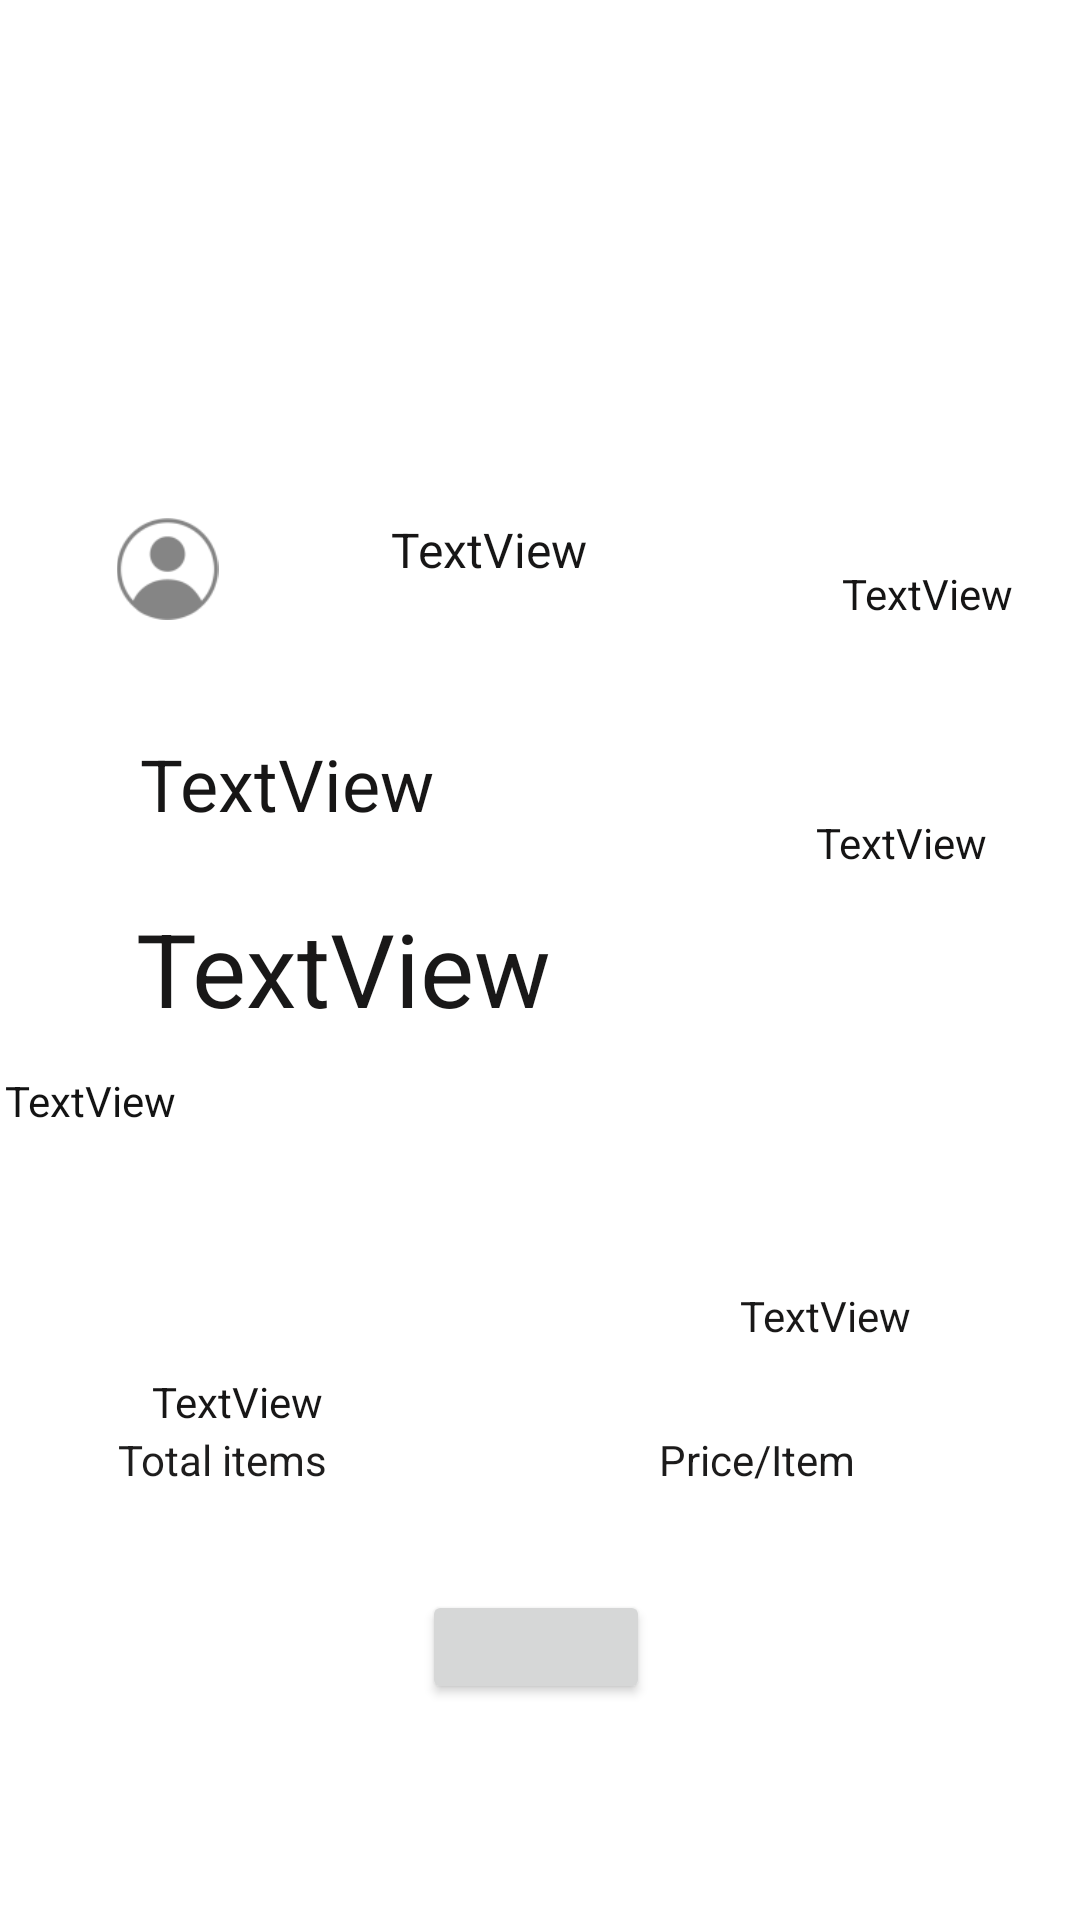

Screen size 1080px x 1920px. Icon name, then its center in pixels as (x=x, y=y):
profile: (x=168, y=569)
